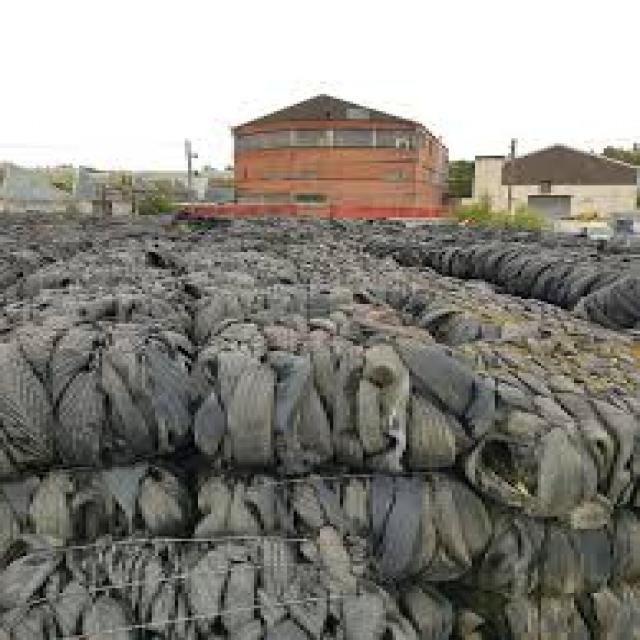Rubber -Non-Biodegradable but Recyclable-: (0, 211, 640, 640)
